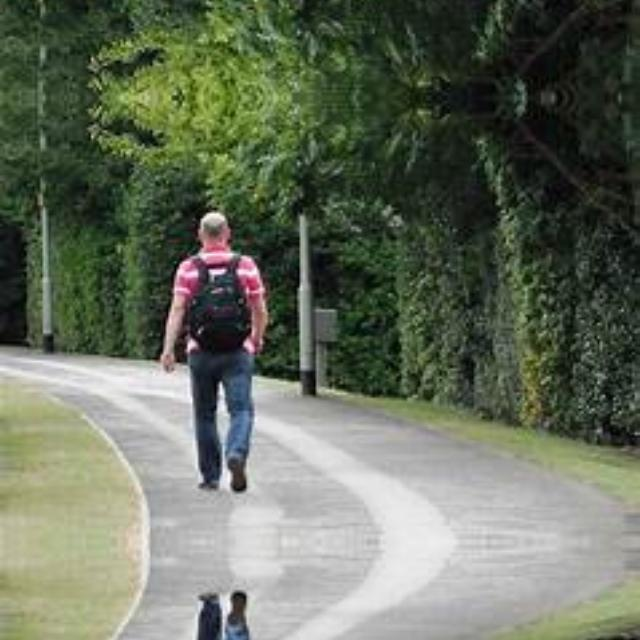person: (155, 204, 277, 496), (155, 587, 277, 640)
